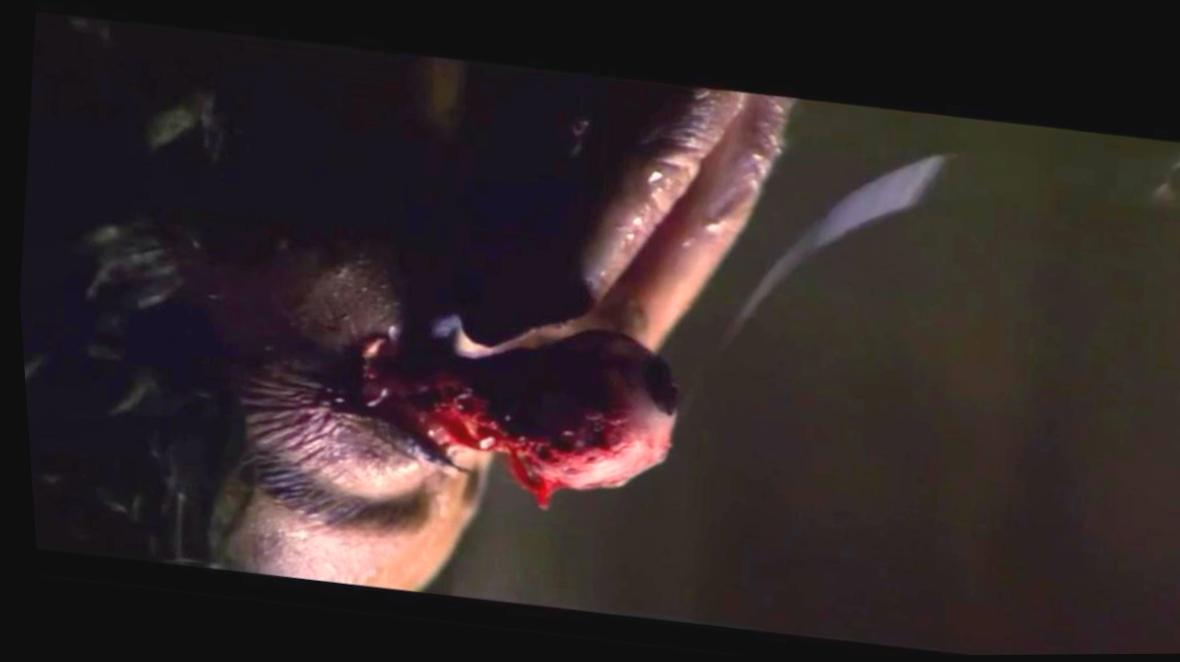Fire: (357, 333, 672, 511)
